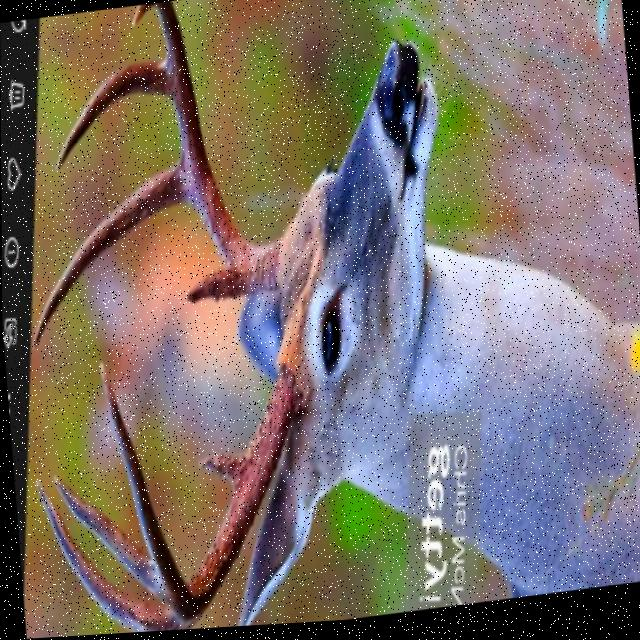L-F: (97, 359, 301, 632)
L-G1: (194, 450, 244, 488)
L-G2: (33, 475, 180, 634)
L-G3: (49, 469, 166, 603)
R-F: (130, 2, 280, 299)
R-G1: (184, 268, 239, 306)
R-G2: (30, 154, 193, 351)
R-G3: (54, 57, 172, 173)
